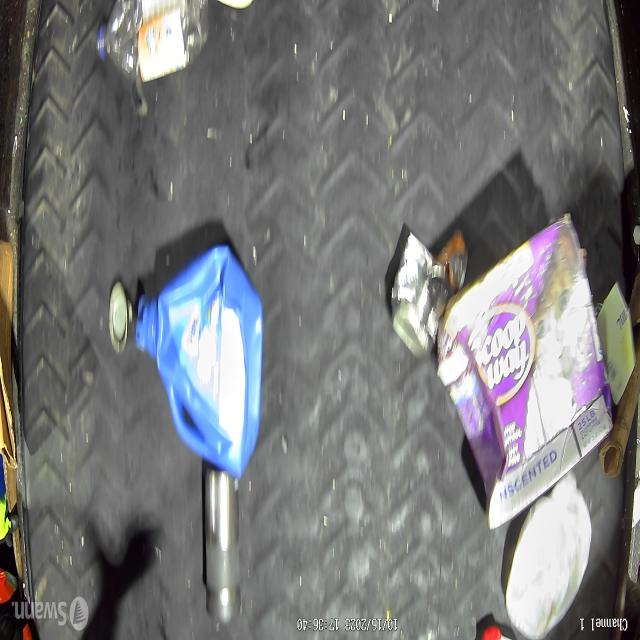can: (390, 238, 448, 352)
non_white_jug: (133, 251, 260, 487)
plastic_bottle: (93, 0, 214, 93), (202, 462, 238, 634)
